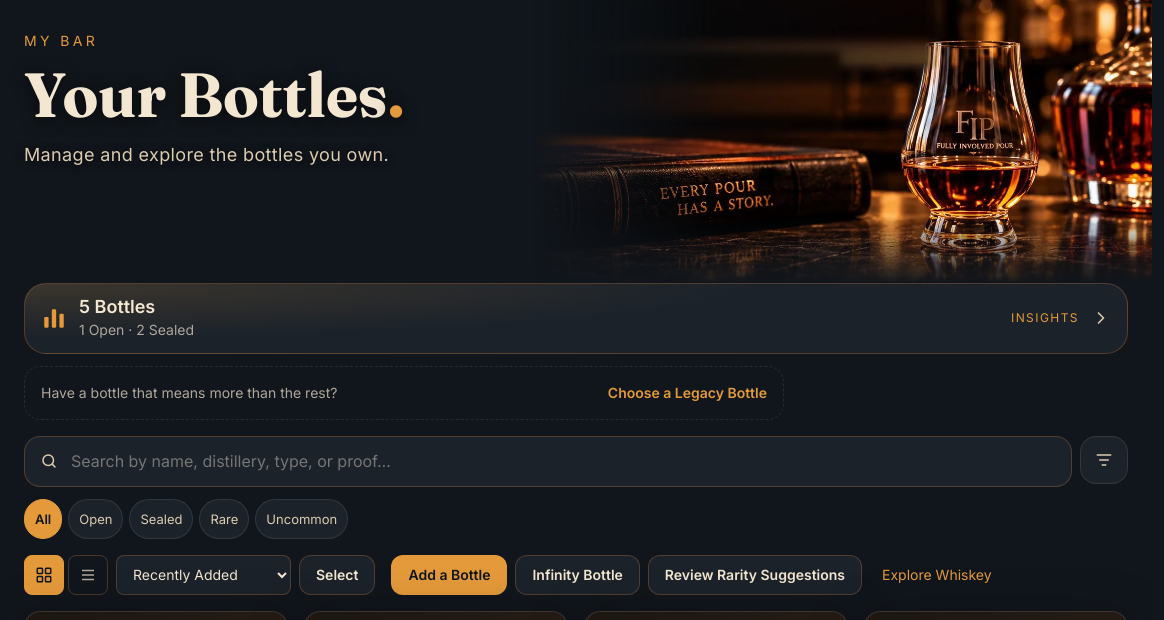
Test case: CollectionPage › shows a "no matches" empty state for a search with no results
Click the button with aria-label "Collection insights".
click(125, 306)  # box left=24, top=283, right=1128, bottom=354
(page scrolled)
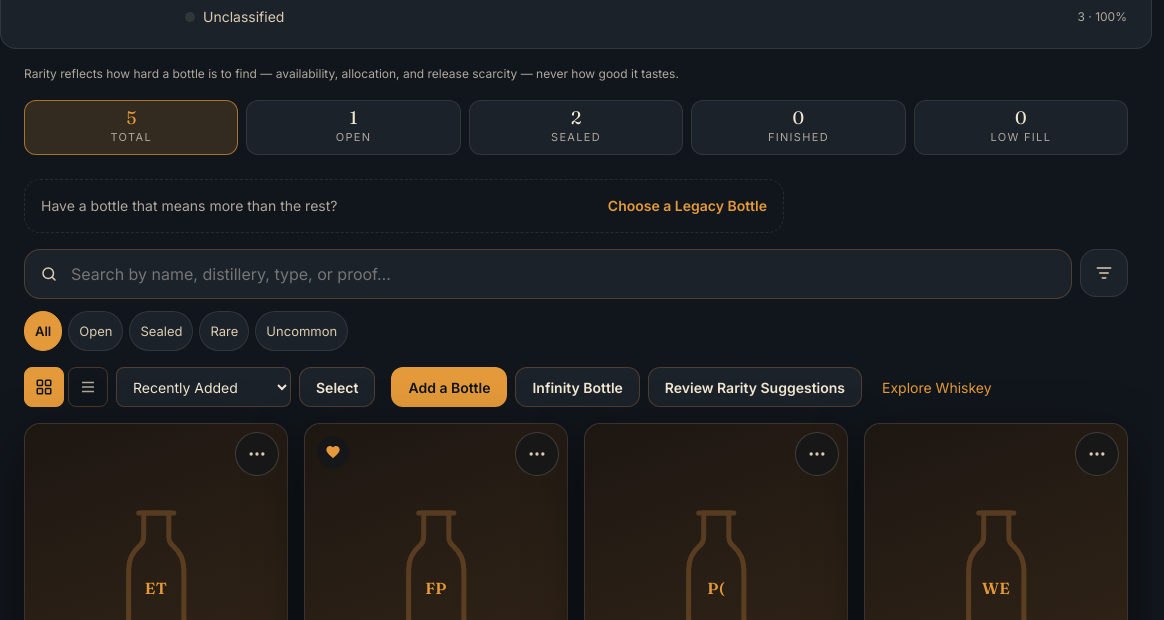
Type "nonexistent bottle" into the search field named "Search your bar".
click(548, 274); type("nonexistent bottle")  # box left=24, top=249, right=1072, bottom=300
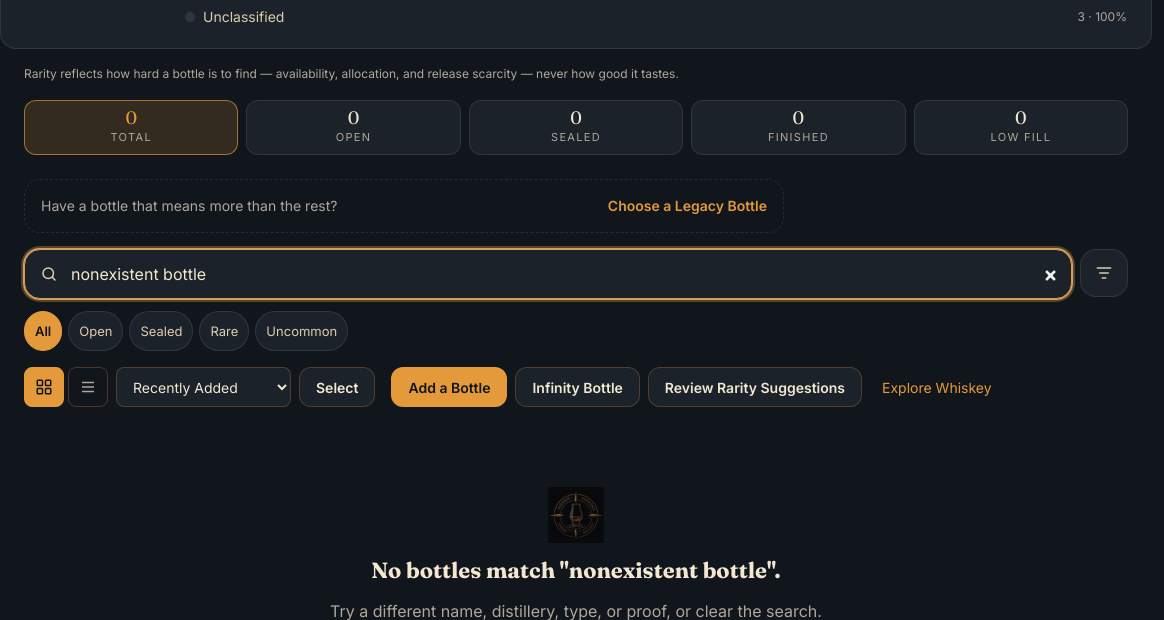
Expected: the heading "No bottles match \"nonexistent bottle\"." is shown, left=371, top=560, right=781, bottom=583
